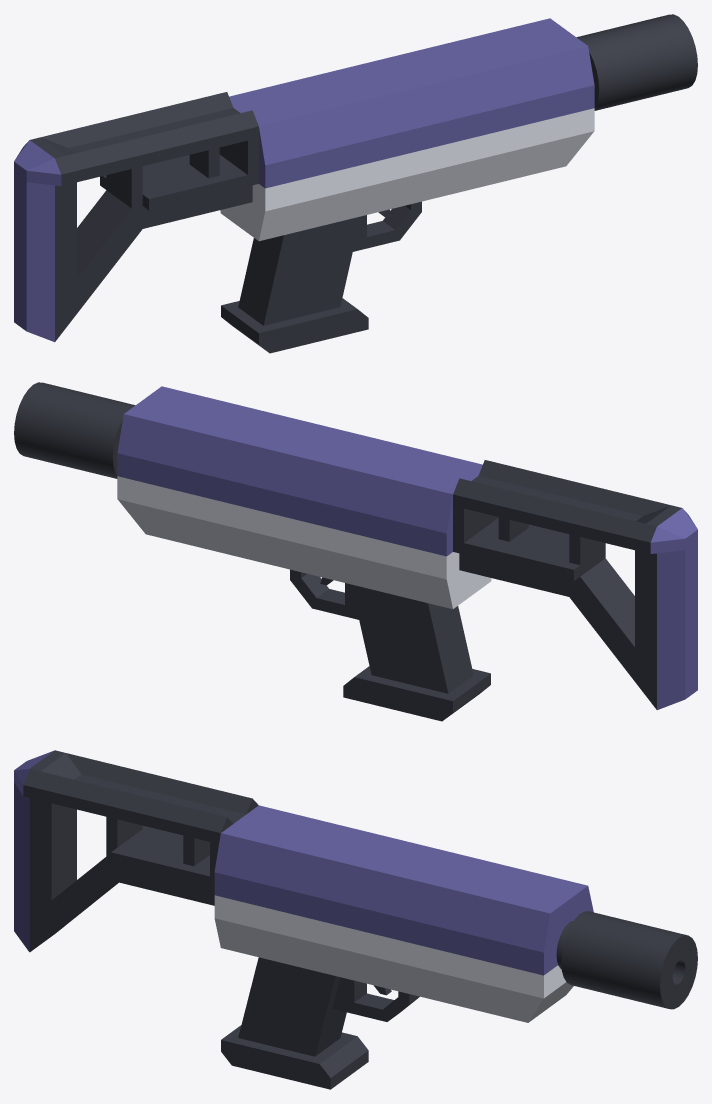
The model's file is smg1.fbx.
The picture shows the model from 3 angles, top to bottom: view 1: azimuth 30°, elevation 25°; view 2: azimuth 150°, elevation 25°; view 3: azimuth 330°, elevation 25°; orthographic projection.
Visible parts, largest first — view 1: mediumBlaster_handle, stock_stealth, mediumBlaster_barrelSilencer; view 2: mediumBlaster_handle, stock_stealth, mediumBlaster_barrelSilencer; view 3: mediumBlaster_handle, mediumBlaster_barrelSilencer, stock_stealth.
Boxes of the visible parts, x1,y1,x2,y2 form: mediumBlaster_handle: (220, 45, 484, 353); stock_stealth: (14, 92, 258, 342); mediumBlaster_barrelSilencer: (441, 14, 697, 187); mediumBlaster_handle: (227, 413, 491, 721); stock_stealth: (453, 460, 697, 710); mediumBlaster_barrelSilencer: (14, 382, 270, 555); mediumBlaster_handle: (214, 805, 477, 1089); mediumBlaster_barrelSilencer: (434, 859, 697, 1022); stock_stealth: (14, 750, 258, 952).
Size of the model in its own units: 15 by 5.25 by 2.
